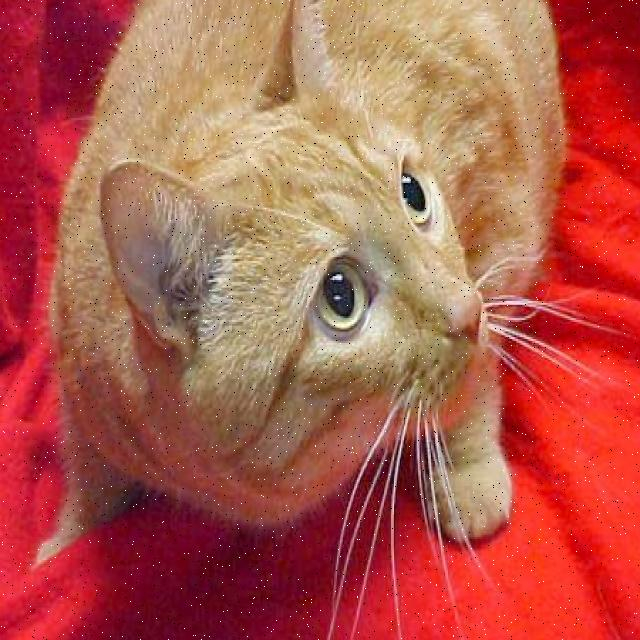Cat: (105, 0, 502, 509)
